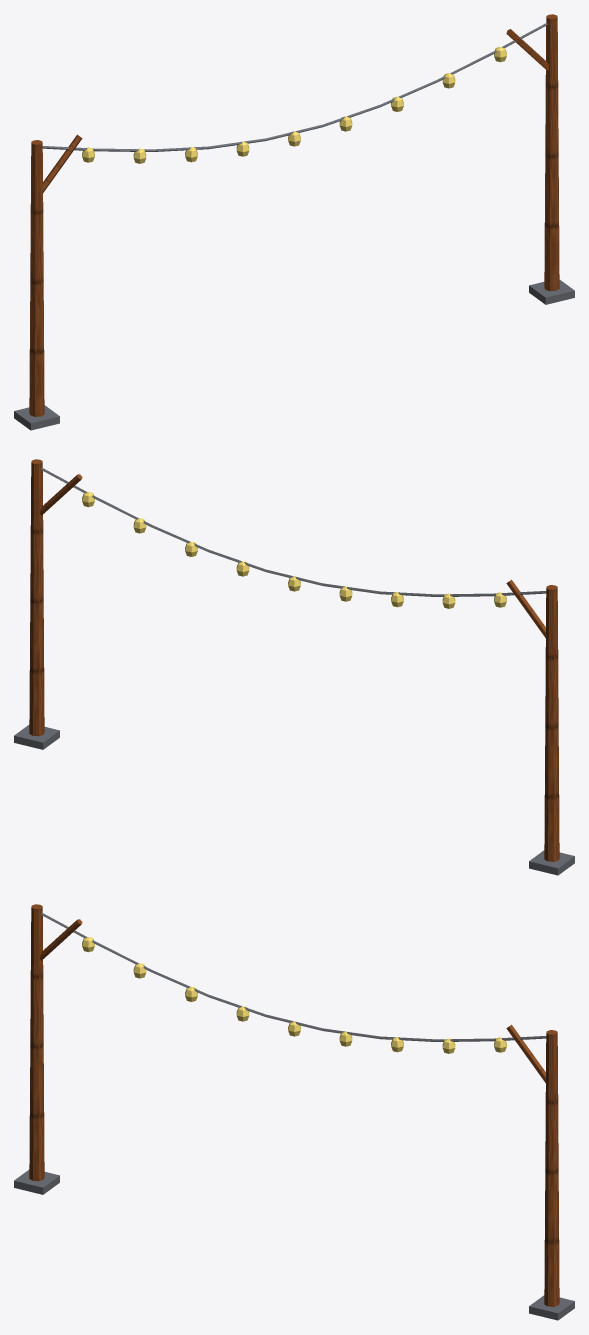
The model's file is travelling-circus-and-big-top-festoon-light-run-b361d4c4__36273.glb.
3 views of the same model, one above another, from view 1: azimuth 30°, elevation 25°; view 2: azimuth 150°, elevation 25°; view 3: azimuth 330°, elevation 25° (orthographic).
Visible parts, largest first — view 1: festoon-light-run-timber, festoon-light-run-charcoal, festoon-light-run-gold; view 2: festoon-light-run-timber, festoon-light-run-charcoal, festoon-light-run-gold; view 3: festoon-light-run-timber, festoon-light-run-charcoal, festoon-light-run-gold.
Boxes of the visible parts, x1,y1,x2,y2 form: festoon-light-run-timber: (29, 14, 559, 416); festoon-light-run-charcoal: (14, 23, 574, 430); festoon-light-run-gold: (82, 47, 506, 163); festoon-light-run-timber: (29, 459, 559, 861); festoon-light-run-charcoal: (14, 468, 574, 875); festoon-light-run-gold: (82, 492, 506, 608); festoon-light-run-timber: (29, 904, 559, 1306); festoon-light-run-charcoal: (14, 913, 574, 1320); festoon-light-run-gold: (82, 937, 506, 1053).
Bounding box in the file's own units: 6.34 × 3.1 × 0.3398.
3 materials, 1 textured.
